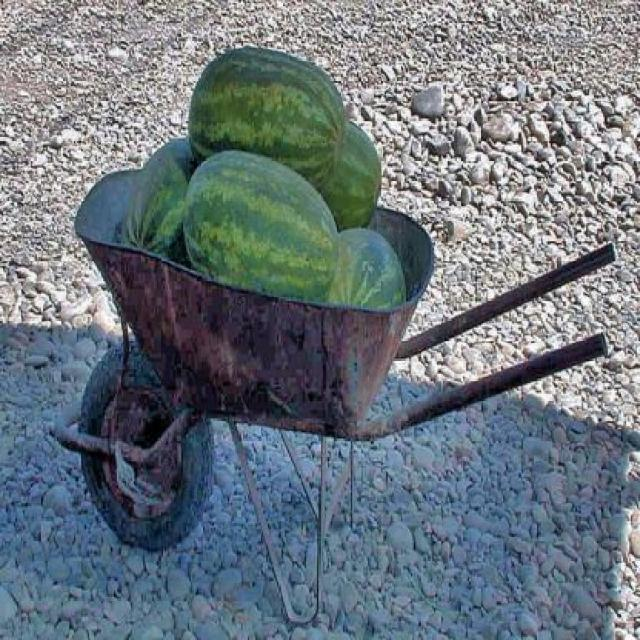Watermelon: (184, 148, 338, 297), (188, 41, 342, 187), (122, 132, 195, 260), (320, 120, 382, 232), (328, 229, 406, 314)
